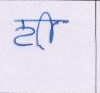i_matra: (40, 11, 57, 43)
